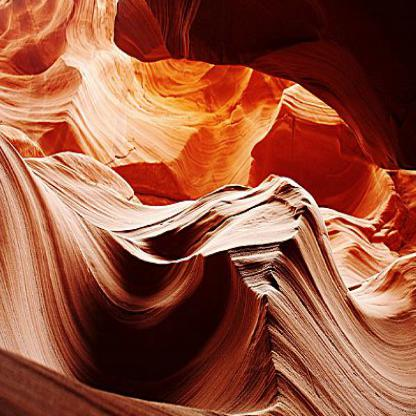Sedimentary_Sandstone: (1, 191, 332, 415), (111, 3, 415, 142)
